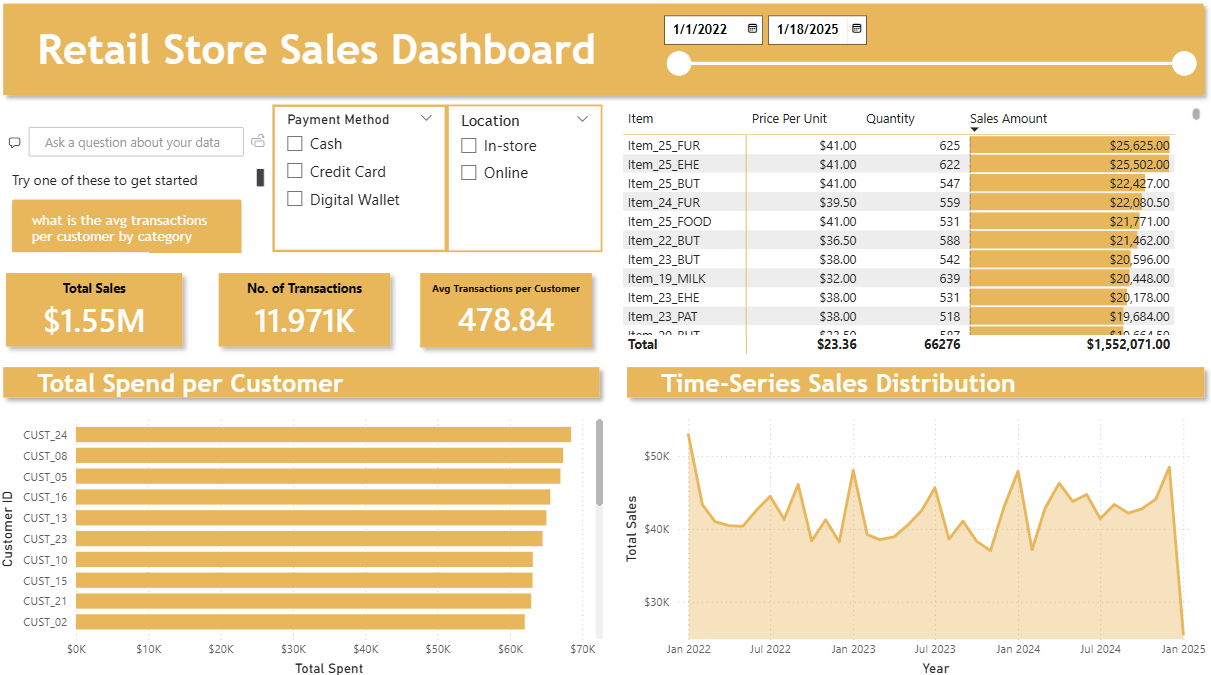

This screenshot's page, from the dashboard's own definition file:
{"tool":"powerbi","page":{"name":"Page 1","canvas":[1280,720],"ordinal":0},"visuals":[{"type":"qnaVisual","box":[6.7,113.3,286.7,166.7],"z":0},{"type":"areaChart","fields":{"Y":["Sum(retail_store_sales.Total Spent)"],"Category":["date.Transaction Date.Variation.Date Hierarchy.Year","date.Transaction Date.Variation.Date Hierarchy.Quarter","date.Transaction Date.Variation.Date Hierarchy.Month"]},"box":[656,432,622,288],"z":1000},{"type":"clusteredBarChart","fields":{"Category":["retail_store_sales.Customer ID"],"Y":["Sum(retail_store_sales.Total Spent)"]},"box":[2,432,644,288],"z":3000},{"type":"pivotTable","fields":{"Rows":["retail_store_sales.Item"],"Values":["Avg(retail_store_sales.Price Per Unit)","Sum(retail_store_sales.Quantity)","Sum(retail_store_sales.Total Spent)"]},"box":[656,114,616,268],"z":4000},{"type":"shape","box":[2,0,1278,114],"z":5000},{"type":"shape","box":[2,382,644,50],"z":6000},{"type":"slicer","fields":{"Values":["retail_store_sales.Transaction Date"]},"box":[699.7,10.7,579.7,92.7],"z":7000},{"type":"shape","box":[656,382,624,50],"z":8000},{"type":"slicer","fields":{"Values":["retail_store_sales.Location"]},"box":[476.7,115,163.3,155],"z":9000},{"type":"slicer","fields":{"Values":["retail_store_sales.Payment Method"]},"box":[293.3,115,183.3,155],"z":10000},{"type":"cardVisual","fields":{"Data":["Sum(retail_store_sales.Total Spent)"]},"box":[1.8,280.6,209.6,101.2],"z":12000},{"type":"cardVisual","fields":{"Data":["retail_store_sales.Count of Transaction ID divided by Count of Customer ID"]},"box":[436.1,280.6,204.2,102.8],"z":13000},{"type":"cardVisual","fields":{"Data":["CountNonNull(retail_store_sales.Transaction ID)"]},"box":[225,280.6,204.2,101.4],"z":14000}]}

Visuals, with their boxes in screenshot pixels (x1, y1, x2, y2), scaled from the page's 1280x720 canvas onto the 1211x675 screenshot:
qnaVisual: (6,106,278,262)
areaChart - Sum(retail_store_sales.Total Spent) x date.Transaction Date.Variation.Date Hierarchy.Year: (621,405,1209,674)
clusteredBarChart - retail_store_sales.Customer ID x Sum(retail_store_sales.Total Spent): (2,405,611,674)
pivotTable - retail_store_sales.Item x Avg(retail_store_sales.Price Per Unit): (621,107,1203,358)
shape: (2,0,1210,107)
shape: (2,358,611,405)
slicer - retail_store_sales.Transaction Date: (662,10,1210,97)
shape: (621,358,1210,405)
slicer - retail_store_sales.Location: (451,108,606,253)
slicer - retail_store_sales.Payment Method: (277,108,451,253)
cardVisual - Sum(retail_store_sales.Total Spent): (2,263,200,358)
cardVisual - retail_store_sales.Count of Transaction ID divided by Count of Customer ID: (413,263,606,359)
cardVisual - CountNonNull(retail_store_sales.Transaction ID): (213,263,406,358)
